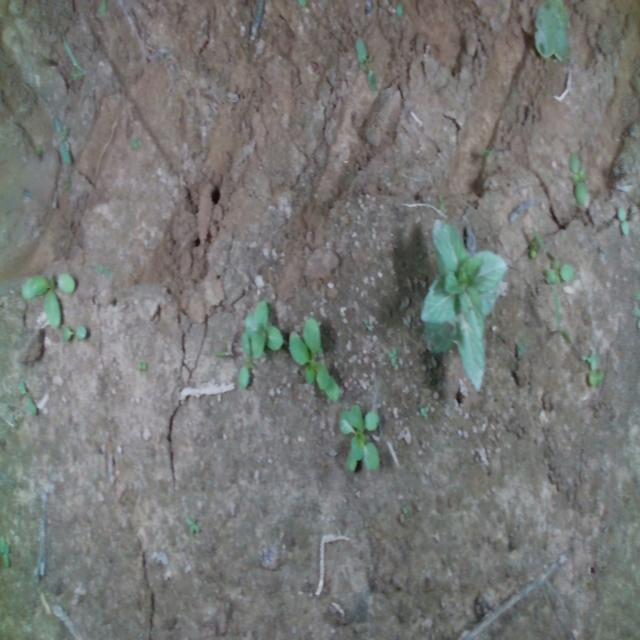weed: (567, 150, 589, 207), (20, 377, 38, 416), (62, 322, 88, 340), (616, 202, 629, 235)
